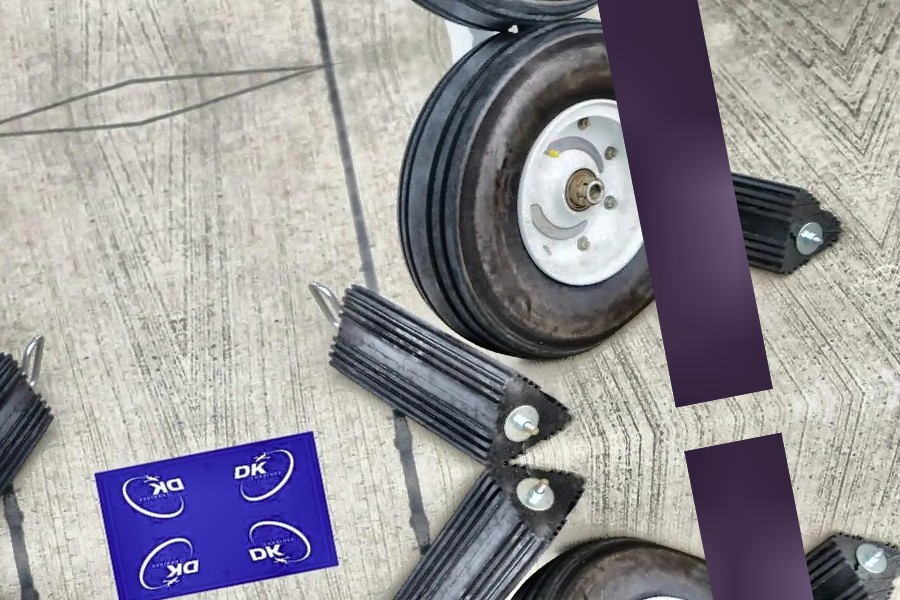chock: (312, 246, 579, 492), (352, 451, 619, 600), (622, 133, 851, 304), (0, 343, 81, 589), (697, 519, 900, 600)
wheel: (368, 0, 734, 382)
